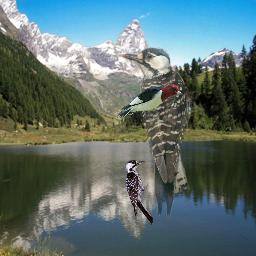Woodpecker: (119, 47, 205, 221), (114, 81, 186, 123), (125, 160, 153, 225)
